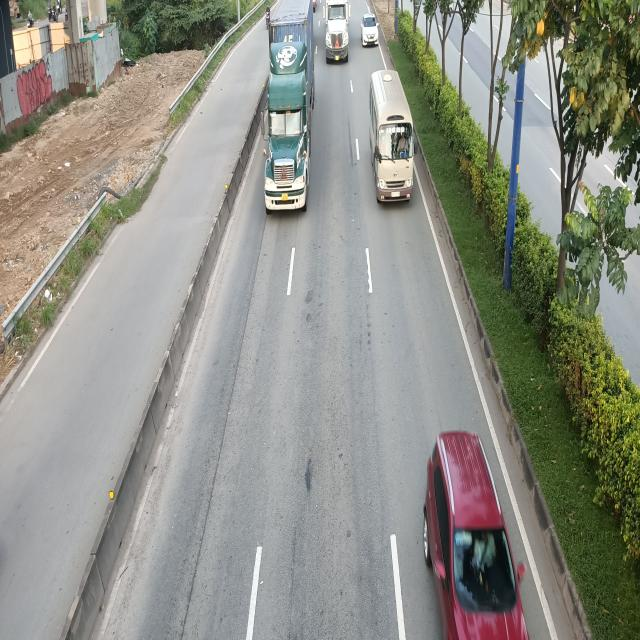car: (419, 428, 527, 638), (360, 13, 378, 48)
coach: (371, 71, 420, 207)
container: (262, 0, 315, 213), (326, 0, 352, 61)
